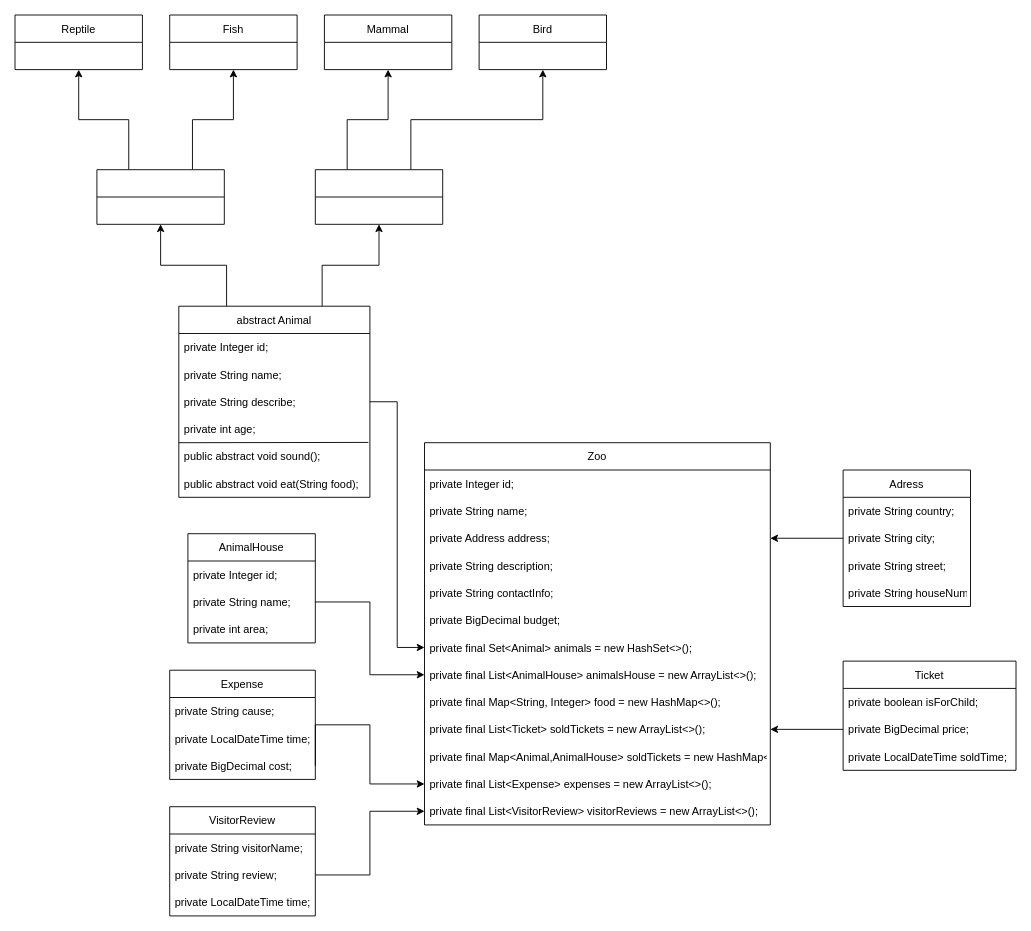
The diagram is 1031 pixels wide and 931 high, and some of its shapes have lost their labels. Here are the shapes that lost their labels. From the top down, the centre of each, then its label:
[160,196]: abstract ColdBlooded
[378,196]: abstract WarmBlooded
